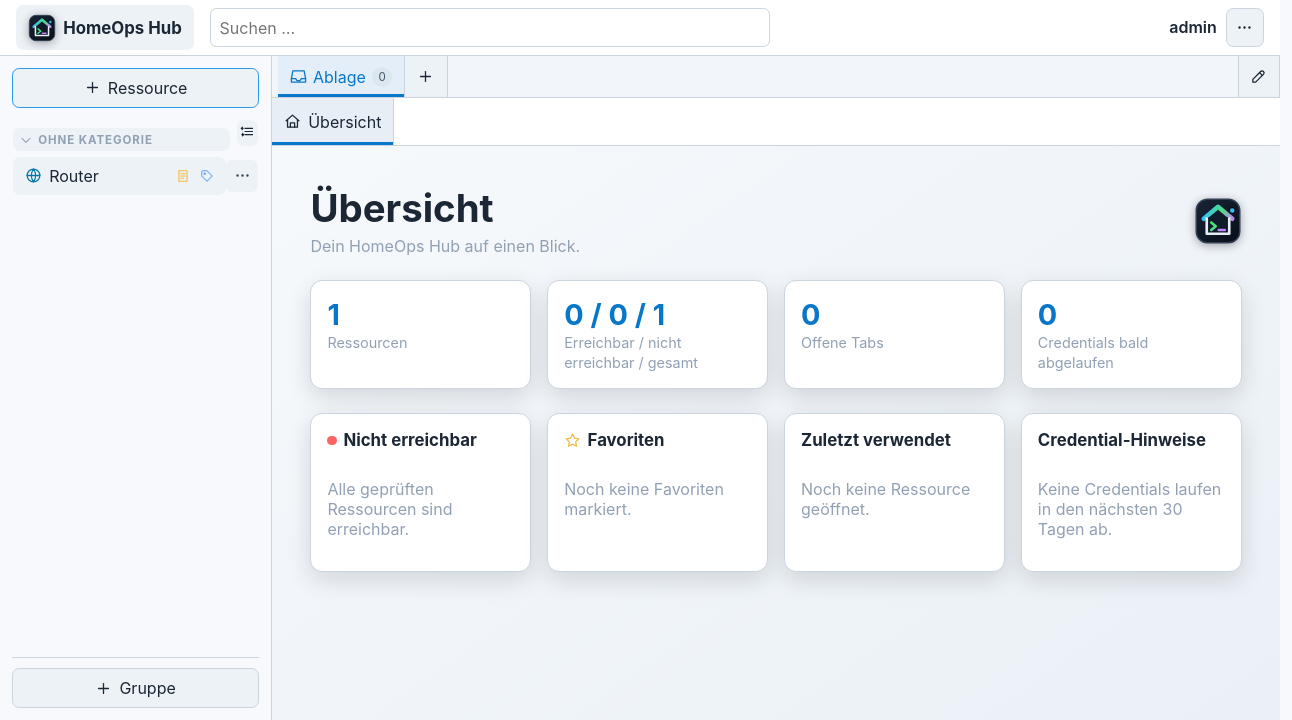
shows resource details in the sidebar preview
Expected: the field with placeholder "Suchen …" is shown, x1=210 y1=8 x2=770 y2=47
Hover over the element "Router" at point(136, 176), box x1=13 y1=157 x2=258 y2=195
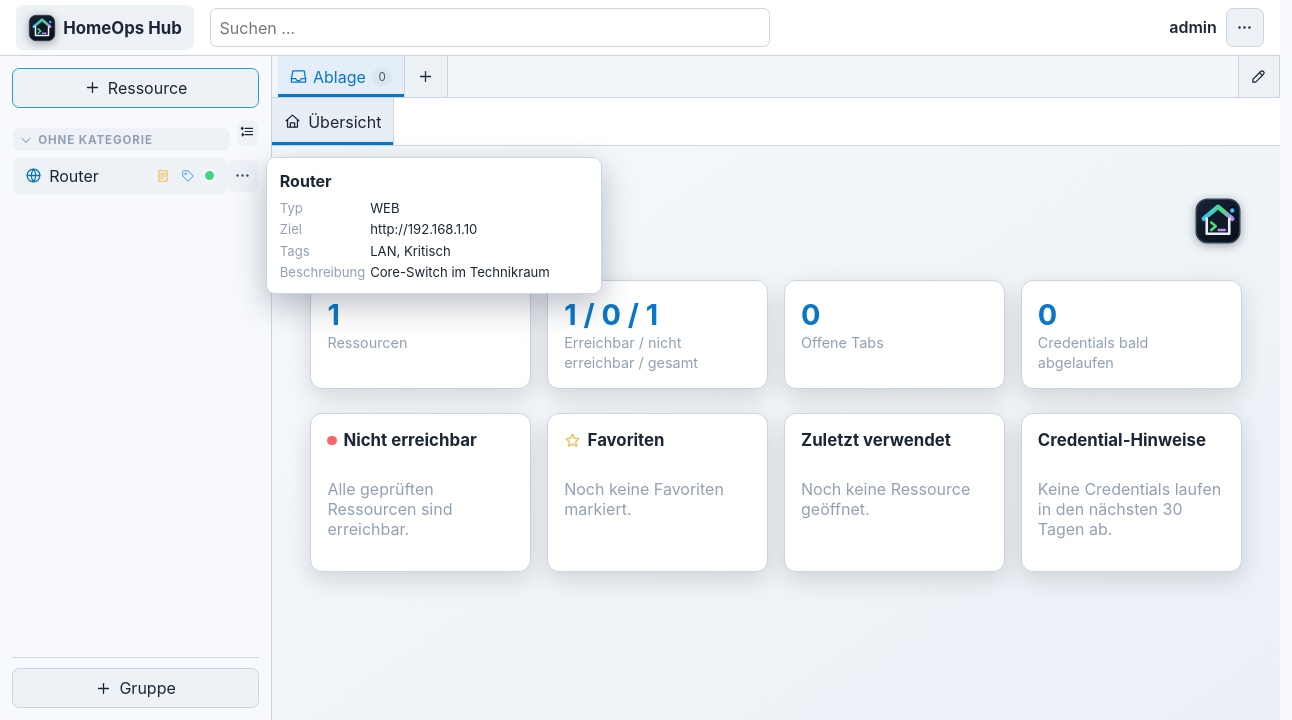
Result: the tooltip shows "http://192.168.1.10" at x1=370 y1=221 x2=477 y2=237
Result: the tooltip shows "LAN, Kritisch" at x1=370 y1=243 x2=451 y2=259
Result: the tooltip shows "Core-Switch im Technikraum" at x1=370 y1=264 x2=550 y2=280
